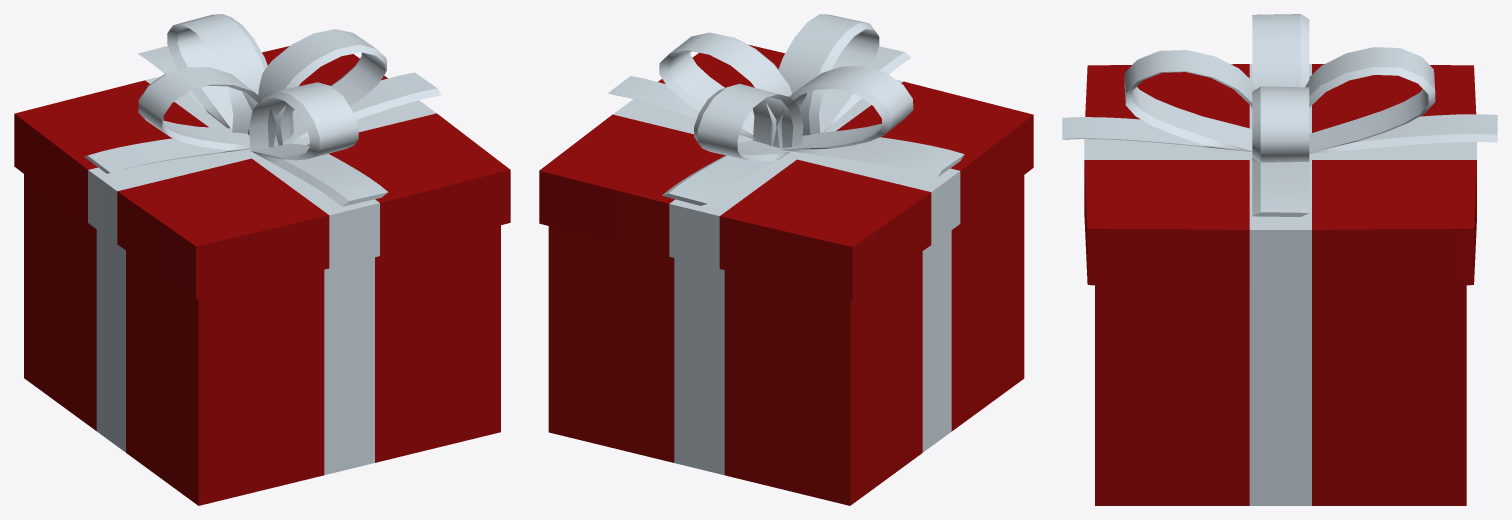
Rendered from collectibles.FBX.
3 renders of one model, left to right at view 1: azimuth 30°, elevation 25°; view 2: azimuth 150°, elevation 25°; view 3: azimuth 270°, elevation 25°, orthographic. The views are drawn at different scales.
Visible parts, largest first — view 1: Box010; view 2: Box010; view 3: Box010.
Boxes of the visible parts, x1,y1,x2,y2 form: Box010: (14,14,510,505); Box010: (539,14,1033,505); Box010: (1062,14,1497,505).
Bounding box in the file's own units: 32.88 × 32.9 × 35.18.
